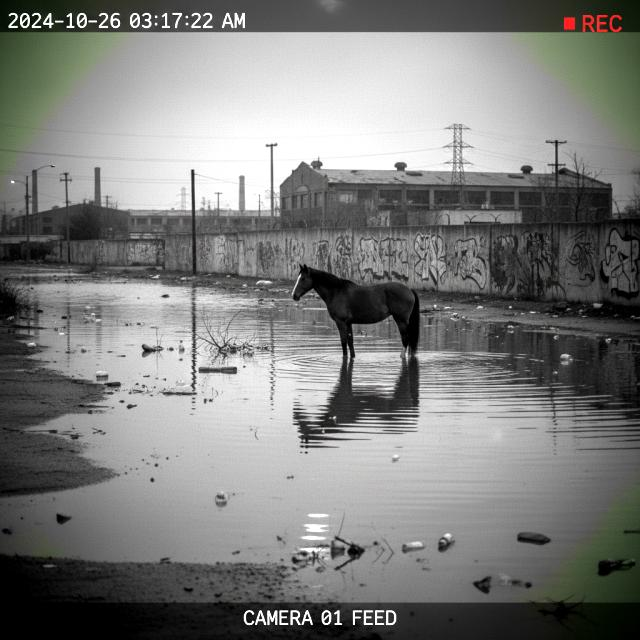horse: (282, 260, 434, 374)
